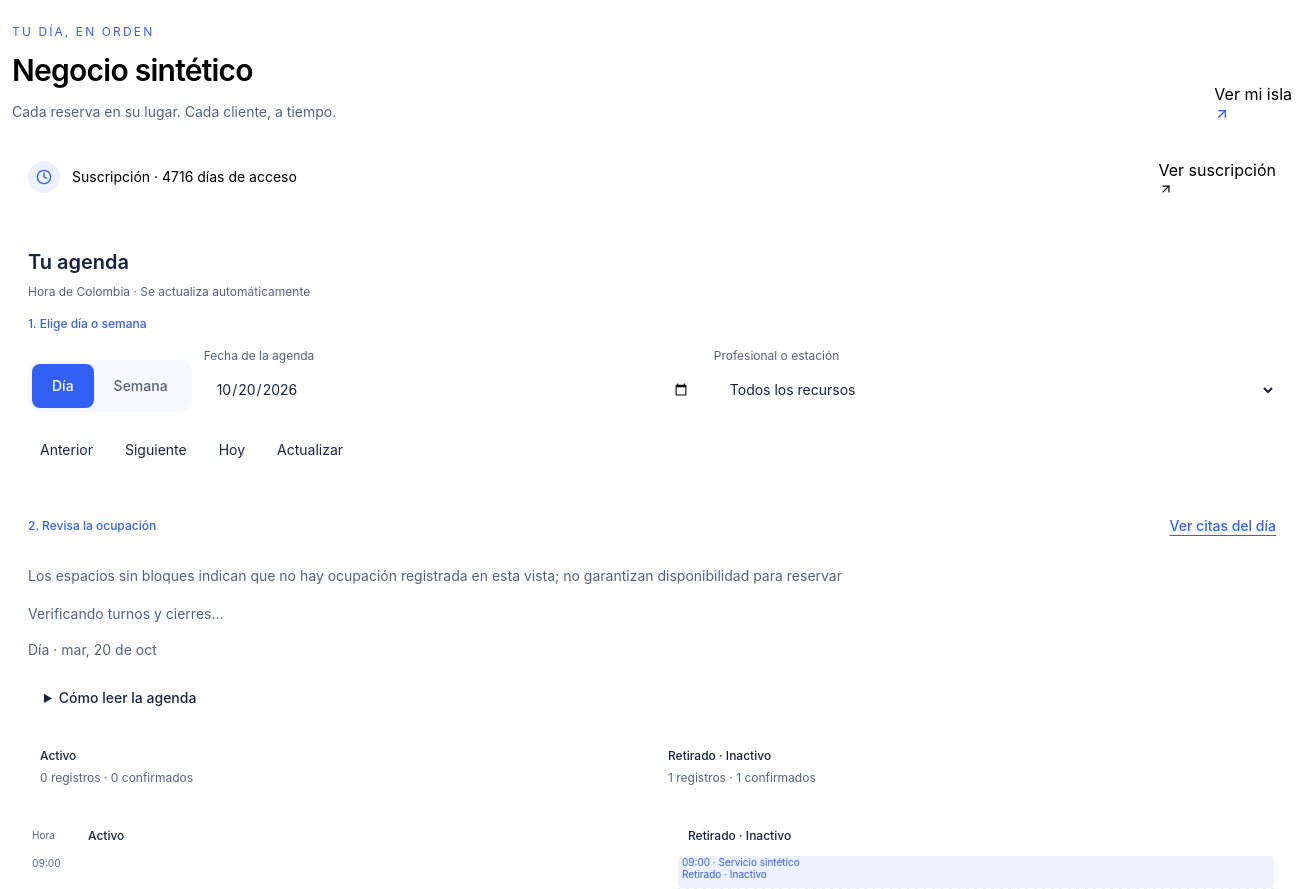
Test: owner agenda dashboard integration › weekSelectsFirstActiveOrHistoricalResource active=true
What coordinates should you click on to do the following:
click the button "Semana"
I would click on:
 (141, 386)
Its box is [94,364,188,408].
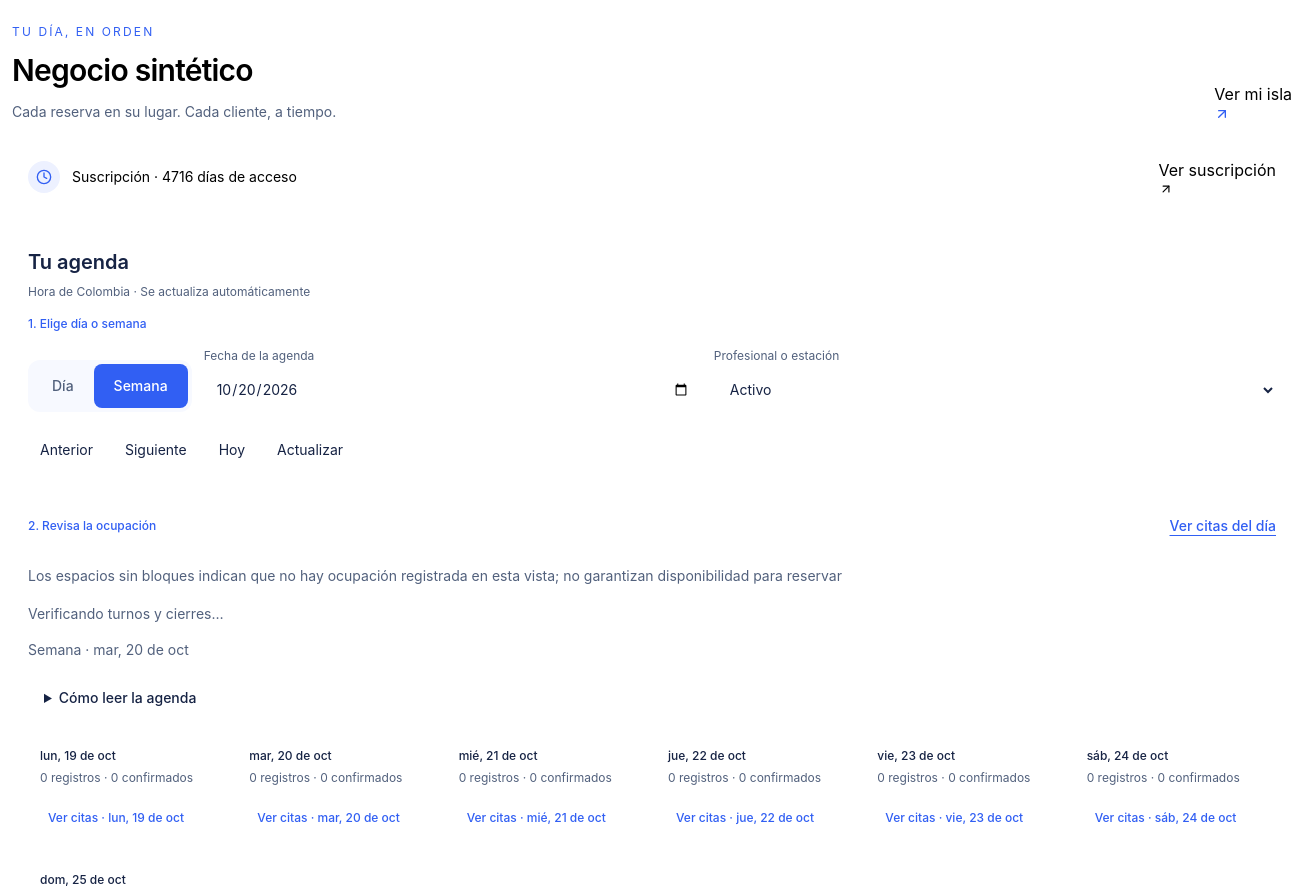
Result: the dropdown labelled "Profesional o estación" shows "Activo" at [714,368,1276,412]
